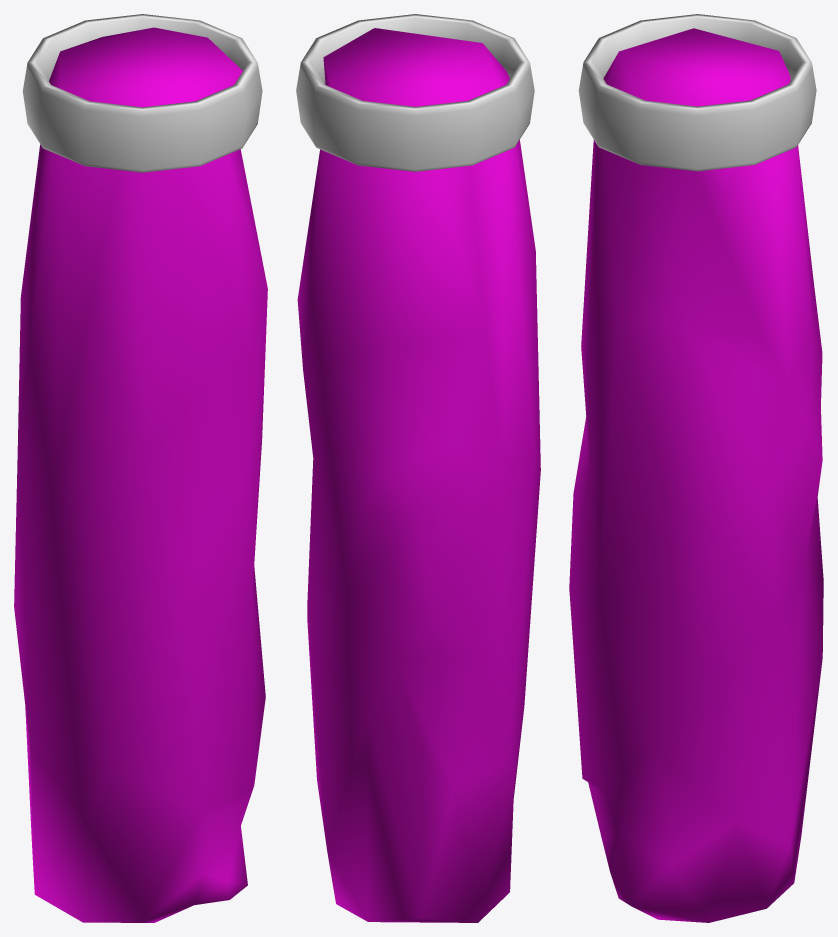
The model's file is Support Pillar.fbx.
3 renders of one model, left to right at view 1: azimuth 30°, elevation 25°; view 2: azimuth 150°, elevation 25°; view 3: azimuth 270°, elevation 25°, orthographic.
Parts seen in each view (by area): view 1: Pilar_low, Torus; view 2: Pilar_low, Torus; view 3: Pilar_low, Torus.
Part boxes in pixels (x1,y1,x2,y2): Pilar_low: (14, 27, 267, 922); Torus: (22, 14, 262, 172); Pilar_low: (297, 28, 540, 922); Torus: (296, 14, 534, 171); Pilar_low: (569, 28, 823, 922); Torus: (578, 14, 816, 171).
Size of the model in its own units: 23.65 by 89.61 by 24.88.
